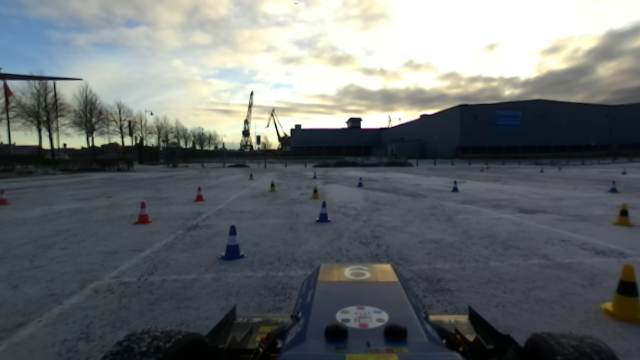blue: (219, 222, 248, 264), (314, 198, 333, 225), (605, 177, 619, 195), (449, 179, 461, 195), (355, 176, 365, 190)
orange: (133, 201, 153, 227), (193, 186, 205, 204)
yellow: (599, 261, 640, 324), (610, 201, 637, 230), (268, 178, 276, 194), (247, 171, 255, 181)
